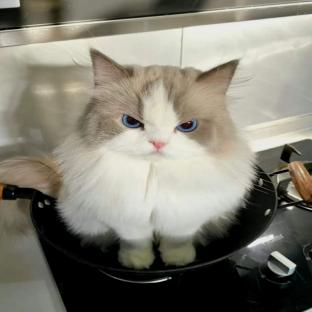Animal: (0, 49, 257, 270)
